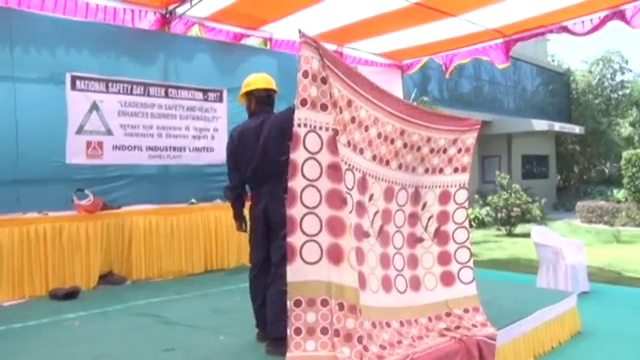helmet: (238, 72, 280, 104)
helmet_on: (236, 70, 280, 122)
person: (222, 70, 297, 355)
